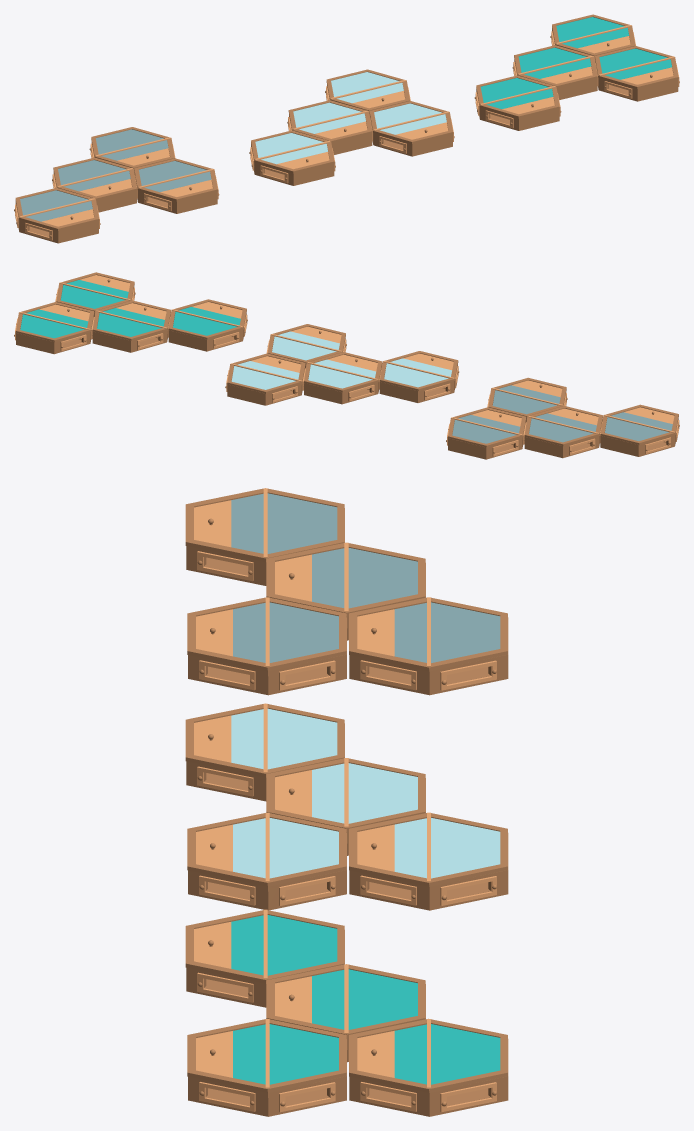
File: beehive 1.fbx
3 renders of one model, top to bottom at view 1: azimuth 30°, elevation 25°; view 2: azimuth 150°, elevation 25°; view 3: azimuth 270°, elevation 25°, orthographic. The views are drawn at different scales.
Visible parts, largest first — view 1: Cube.080, Cube.079, Cube.039, Cube.119, Cube, Cube.012, Cube.071, Cube.092, Cube.047, Cube.008, Cube.027, Cube.067 (+45 smaller); view 2: Cube.027, Cube.067, Cube.047, Cube.052, Cube.071, Cube.092, Cube.107, Cube.008, Cube.012, Cube.088, Cube.099, Cube.112 (+45 smaller); view 3: Cube.071, Cube.008, Cube.088, Cube.032, Cube.112, Cube.047, Cube.067, Cube.092, Cube.012, Cube.052, Cube.107, Cube.027 (+45 smaller).
Part boxes in pixels (box(x1,y1,x2,y2)): Cube.080: box(476, 89, 559, 130); Cube.079: box(251, 144, 334, 185); Cube.039: box(134, 174, 217, 213); Cube.119: box(595, 62, 678, 101); Cube: box(15, 201, 98, 243); Cube.012: box(58, 160, 125, 185); Cube.071: box(255, 133, 323, 157); Cube.092: box(518, 47, 586, 72); Cube.047: box(374, 103, 441, 128); Cube.008: box(20, 190, 88, 215); Cube.027: box(95, 129, 163, 154); Cube.067: box(293, 102, 361, 127); Cube.027: box(452, 419, 516, 443); Cube.067: box(308, 364, 372, 388); Cube.047: box(272, 336, 336, 360); Cube.052: box(231, 366, 295, 389); Cube.071: box(384, 363, 448, 387); Cube.092: box(97, 313, 161, 336); Cube.107: box(20, 314, 84, 338); Cube.008: box(605, 417, 668, 441); Cube.012: box(529, 418, 593, 442); Cube.088: box(173, 311, 237, 335); Cube.099: box(92, 315, 170, 352); Cube.112: box(60, 285, 124, 308); Cube.071: box(267, 708, 337, 769); Cube.008: box(267, 493, 337, 553); Cube.088: box(267, 915, 337, 975); Cube.032: box(269, 602, 338, 662); Cube.112: box(269, 1024, 338, 1084); Cube.047: box(269, 818, 338, 878); Cube.067: box(348, 763, 417, 823); Cube.092: box(348, 969, 417, 1029); Cube.012: box(348, 548, 417, 608); Cube.052: box(431, 817, 500, 878); Cube.107: box(431, 1024, 500, 1084); Cube.027: box(431, 602, 500, 662).
Size of the model in its own units: 11433 by 285 by 2594.
